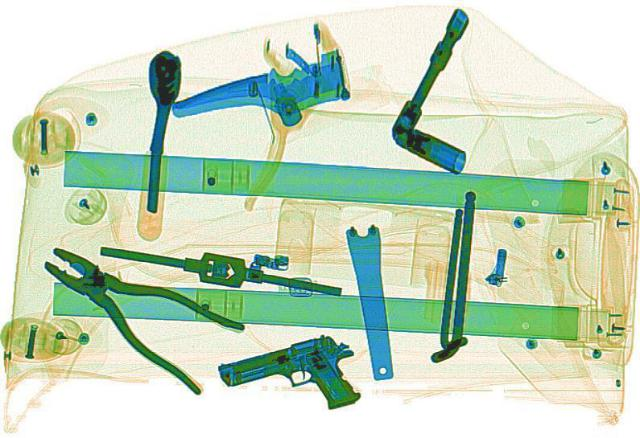Gun: (210, 329, 382, 428)
Pliers: (1, 226, 279, 393)
